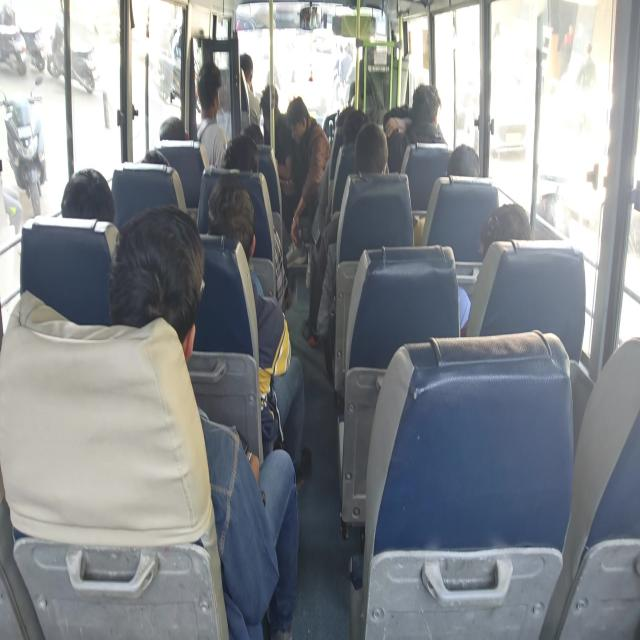person: (124, 210, 195, 314), (203, 181, 280, 251), (63, 158, 124, 238), (67, 158, 124, 231), (484, 200, 527, 266), (412, 76, 447, 142), (450, 153, 496, 202), (225, 142, 267, 188), (358, 134, 397, 182), (198, 65, 227, 116), (242, 111, 278, 152), (141, 142, 171, 178), (338, 105, 359, 150), (237, 54, 260, 93), (161, 112, 185, 142), (356, 39, 377, 70), (286, 105, 306, 137), (262, 86, 278, 120)
